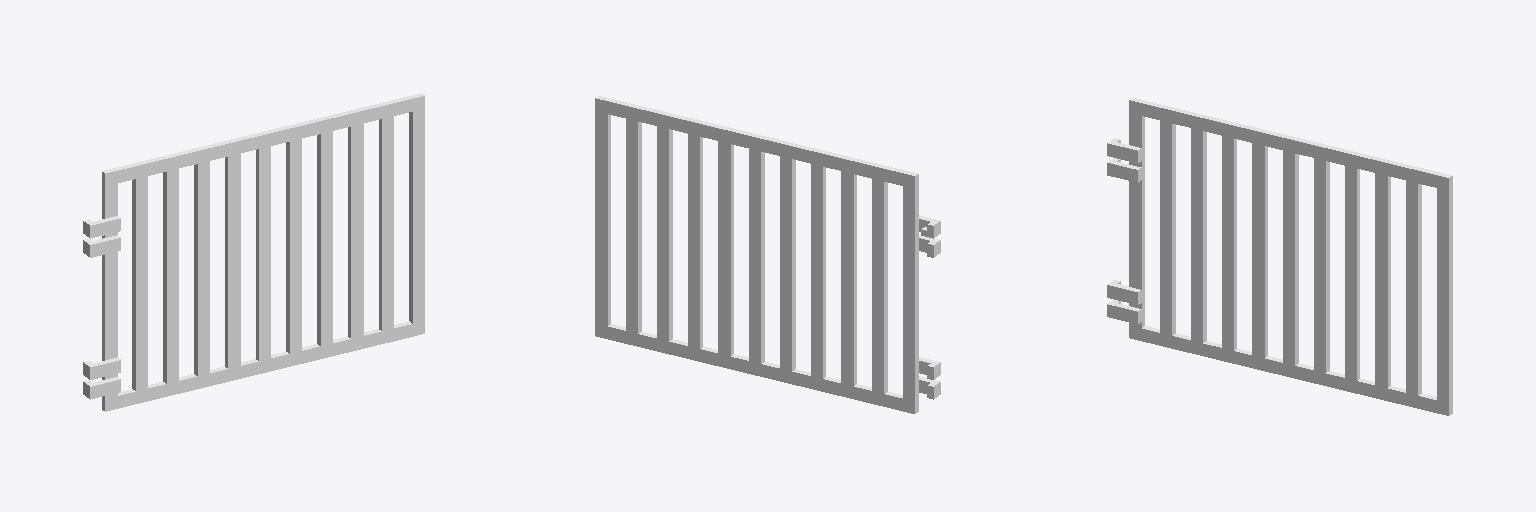
Rendered from Cage-1.obj.
3 views of the same model, side by side, from view 1: azimuth 30°, elevation 25°; view 2: azimuth 150°, elevation 25°; view 3: azimuth 330°, elevation 25° (orthographic).
Parts seen in each view (by area): view 1: object 1; view 2: object 1; view 3: object 1.
Part boxes in pixels (x1,y1,x2,y2): object 1: (83, 93, 424, 411); object 1: (595, 96, 940, 413); object 1: (1107, 98, 1452, 415).
Size of the model in its own units: 5.5 by 3.7 by 0.2.